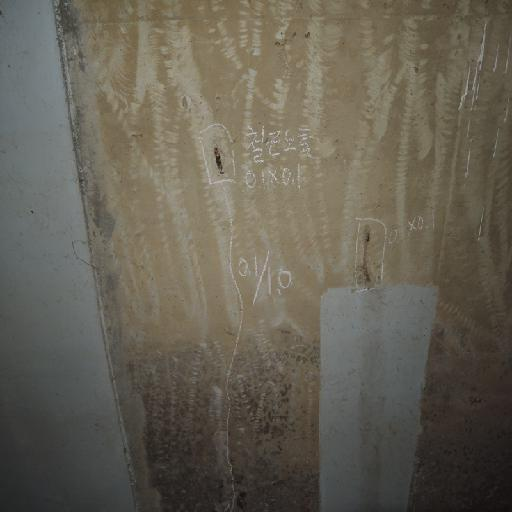exposed_rebar: (361, 232, 371, 284), (215, 150, 225, 175)
